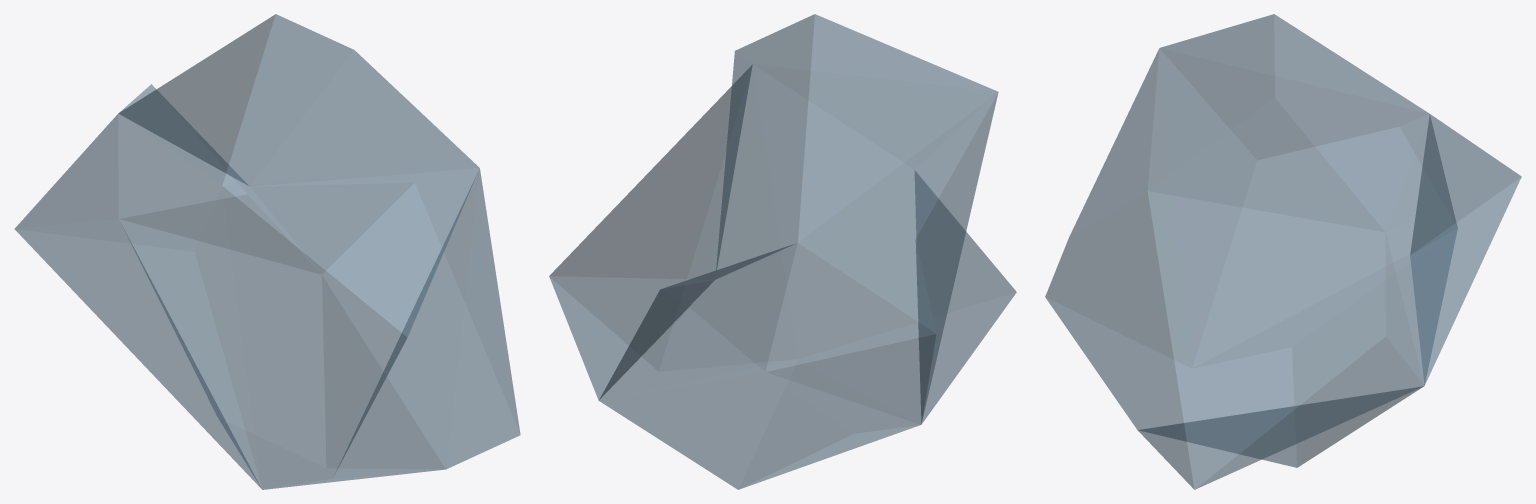
File: particle1.dae
3 views of the same model, side by side, from view 1: azimuth 30°, elevation 25°; view 2: azimuth 150°, elevation 25°; view 3: azimuth 270°, elevation 25° (orthographic). The views are drawn at different scales.
Parts seen in each view (by area): view 1: Platonic.3; view 2: Platonic.3; view 3: Platonic.3.
Boxes of the visible parts, <box> form: Platonic.3: <box>14,14,520,489</box>; Platonic.3: <box>549,14,1016,489</box>; Platonic.3: <box>1045,14,1521,489</box>.
Bounding box in the file's own units: 154 × 179 × 182.
